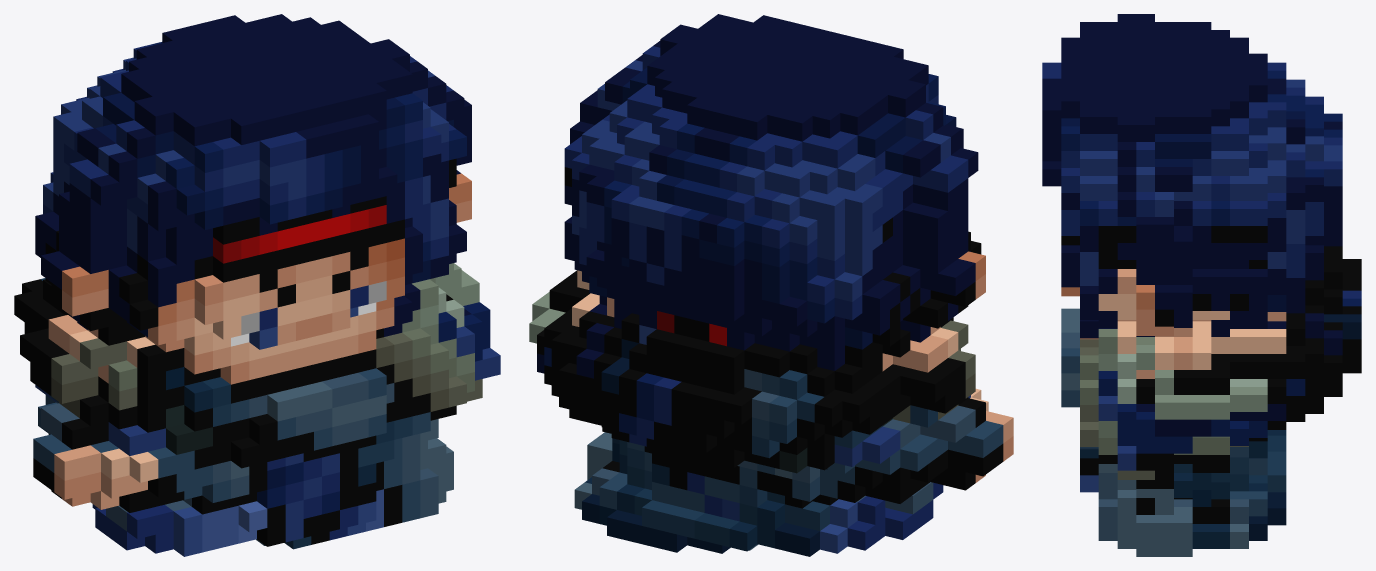
The model's file is Icon_201_01.obj.
The picture shows the model from 3 angles, left to right: view 1: azimuth 30°, elevation 25°; view 2: azimuth 150°, elevation 25°; view 3: azimuth 270°, elevation 25°; orthographic projection. The views are drawn at different scales.
Size of the model in its own units: 2.4 by 2.4 by 1.7.
1 material, 1 textured.
